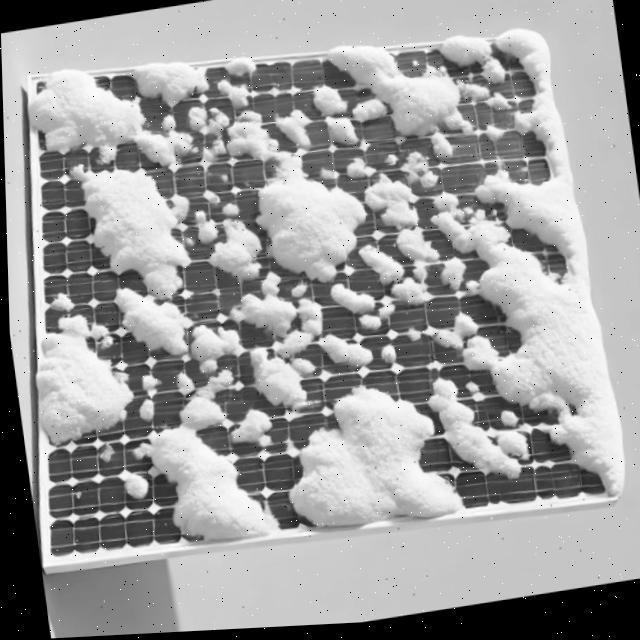Anomaly Solar Panel: (3, 20, 615, 558)
Snow: (397, 24, 640, 523), (206, 83, 383, 300), (120, 369, 280, 564), (327, 1, 493, 169), (282, 379, 465, 531), (16, 58, 209, 196), (12, 301, 141, 445), (413, 370, 521, 499), (68, 164, 189, 254), (358, 167, 454, 277), (236, 340, 333, 422), (100, 282, 201, 360), (228, 264, 313, 350), (343, 242, 440, 311), (271, 277, 339, 366), (438, 26, 519, 86), (131, 52, 212, 111), (104, 247, 190, 300), (324, 280, 397, 337), (209, 218, 266, 282), (311, 327, 379, 377), (429, 309, 481, 358), (188, 324, 241, 371), (394, 147, 439, 196), (453, 79, 511, 115), (204, 179, 243, 226), (326, 108, 365, 151), (186, 102, 229, 140), (226, 412, 270, 449), (310, 78, 347, 118), (212, 74, 253, 107), (118, 465, 153, 502), (188, 206, 221, 244), (375, 338, 409, 374), (135, 373, 159, 423), (440, 255, 467, 293), (491, 432, 527, 460), (345, 154, 374, 185), (48, 286, 77, 315), (224, 55, 261, 77), (171, 365, 197, 395), (431, 129, 456, 160), (356, 99, 385, 121), (481, 121, 505, 146), (495, 408, 520, 431)
